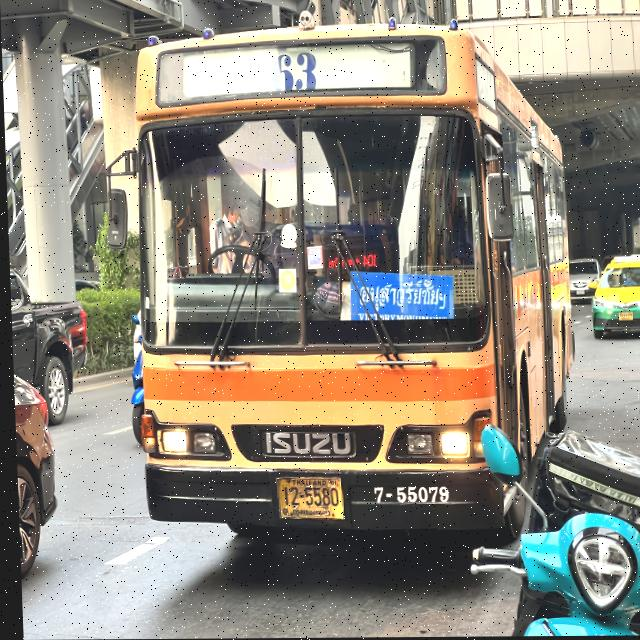BMTA-bus: (108, 3, 583, 564)
Bus-Line-Number: (262, 46, 329, 99)
Destination-Sign-Normal: (346, 269, 453, 317)
